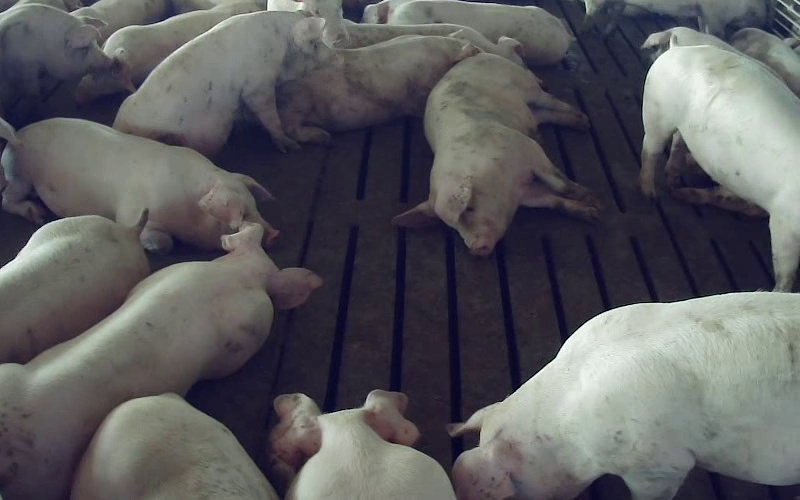pig: (0, 223, 321, 499), (449, 293, 799, 499), (393, 53, 599, 254), (641, 46, 799, 290), (2, 118, 277, 252), (113, 11, 334, 156), (0, 210, 149, 362), (71, 393, 277, 499), (277, 36, 478, 142), (270, 390, 454, 499), (363, 0, 573, 65), (0, 3, 111, 115), (345, 20, 522, 64)
